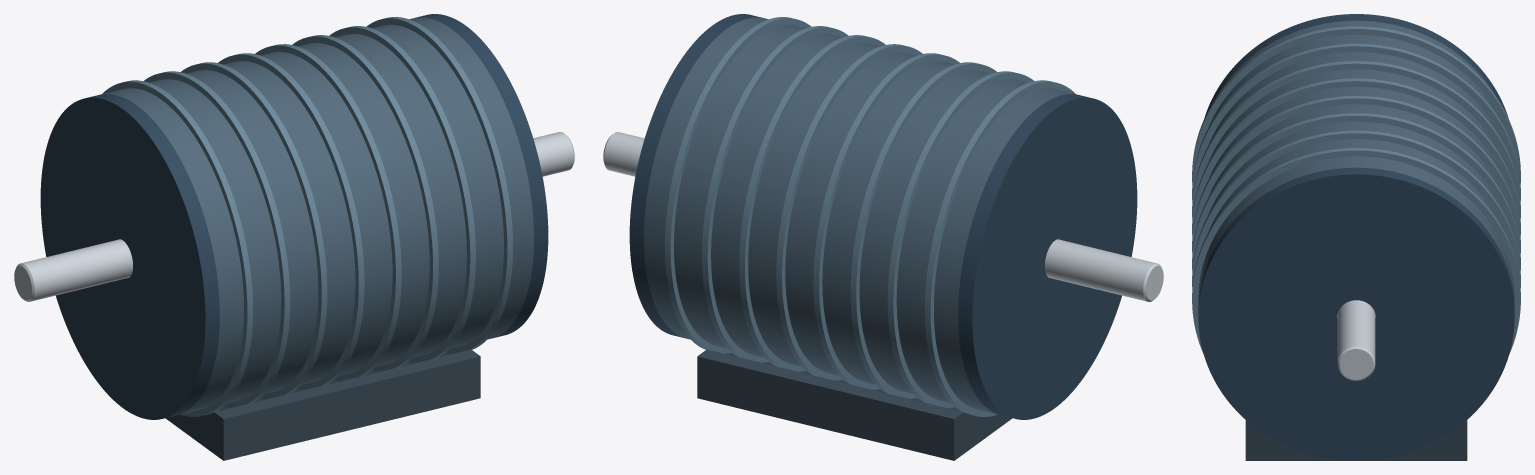
Rendered from ev-ipmsm-motor.glb.
The picture shows the model from 3 angles, left to right: view 1: azimuth 30°, elevation 25°; view 2: azimuth 150°, elevation 25°; view 3: azimuth 270°, elevation 25°; orthographic projection. The views are drawn at different scales.
Visible parts, largest first — view 1: HousingAccessQuarter, RearEndCover, MotorHousing, MountingFoot, DriveShaft, FrontCoverAccessQuarter, CoolingRibAccess (5), CoolingRibAccess (4), CoolingRibAccess (6), CoolingRibAccess (3), CoolingRibAccess, CoolingRibAccess (8) (+11 smaller); view 2: MotorHousing, RearEndCover, MountingFoot, DriveShaft, FrontEndCover, HousingAccessQuarter, CoolingRib, CoolingRib (6), CoolingRib (5), CoolingRib (4), CoolingRib (3), CoolingRib (7) (+2 smaller); view 3: FrontEndCover, FrontCoverAccessQuarter, MotorHousing, HousingAccessQuarter, MountingFoot, DriveShaft, CoolingRib (8), RearEndCover, CoolingRibAccess (8), CoolingRib, CoolingRib (7), CoolingRib (3) (+11 smaller).
Part boxes in pixels (box(x1,y1,x2,y2)): HousingAccessQuarter: box(137, 29, 533, 315); RearEndCover: box(40, 94, 219, 419); MotorHousing: box(102, 17, 533, 414); MountingFoot: box(165, 349, 480, 460); DriveShaft: box(14, 132, 574, 301); FrontCoverAccessQuarter: box(452, 25, 548, 238); CoolingRibAccess (5): box(310, 56, 401, 275); CoolingRibAccess (4): box(273, 65, 364, 284); CoolingRibAccess (6): box(347, 47, 438, 266); CoolingRibAccess (3): box(236, 74, 327, 293); CoolingRibAccess: box(161, 92, 252, 311); CoolingRibAccess (8): box(421, 29, 512, 248); MotorHousing: box(644, 29, 1039, 414); RearEndCover: box(958, 94, 1137, 419); MountingFoot: box(697, 349, 1012, 460); DriveShaft: box(603, 132, 1163, 301); FrontEndCover: box(629, 25, 725, 338); HousingAccessQuarter: box(726, 17, 1076, 105); CoolingRib: box(925, 92, 1016, 416); CoolingRib (6): box(739, 47, 830, 371); CoolingRib (5): box(776, 56, 867, 380); CoolingRib (4): box(813, 65, 904, 389); CoolingRib (3): box(850, 74, 941, 398); CoolingRib (7): box(702, 38, 793, 362); FrontEndCover: box(1198, 167, 1514, 460); FrontCoverAccessQuarter: box(1198, 167, 1356, 317); MotorHousing: box(1356, 20, 1514, 305); HousingAccessQuarter: box(1198, 20, 1356, 306); MountingFoot: box(1245, 420, 1467, 460); DriveShaft: box(1337, 300, 1375, 380); CoolingRib (8): box(1192, 148, 1520, 353); RearEndCover: box(1204, 14, 1508, 118); CoolingRibAccess (8): box(1192, 148, 1356, 299); CoolingRib: box(1192, 26, 1520, 182); CoolingRib (7): box(1192, 130, 1520, 287); CoolingRib (3): box(1192, 61, 1520, 217).
Size of the model in its own units: 0.19 by 0.109 by 0.104.
